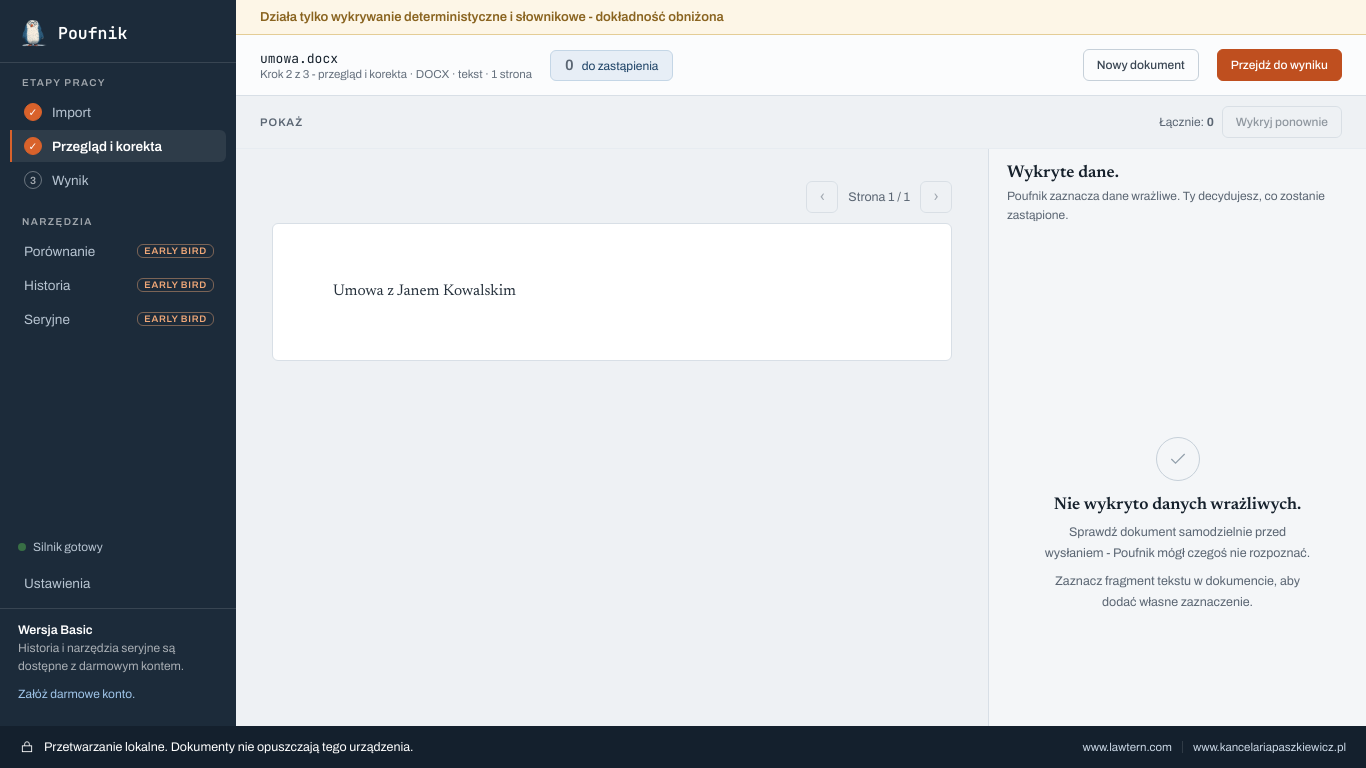
Scenario: App engine health › falls back to the simplified DOCX and says so when the original file is gone
This screenshot has width=1366, height=768.
Click the button "3 Wynik". click: (118, 180)
box: x1=10 y1=164 x2=226 y2=196
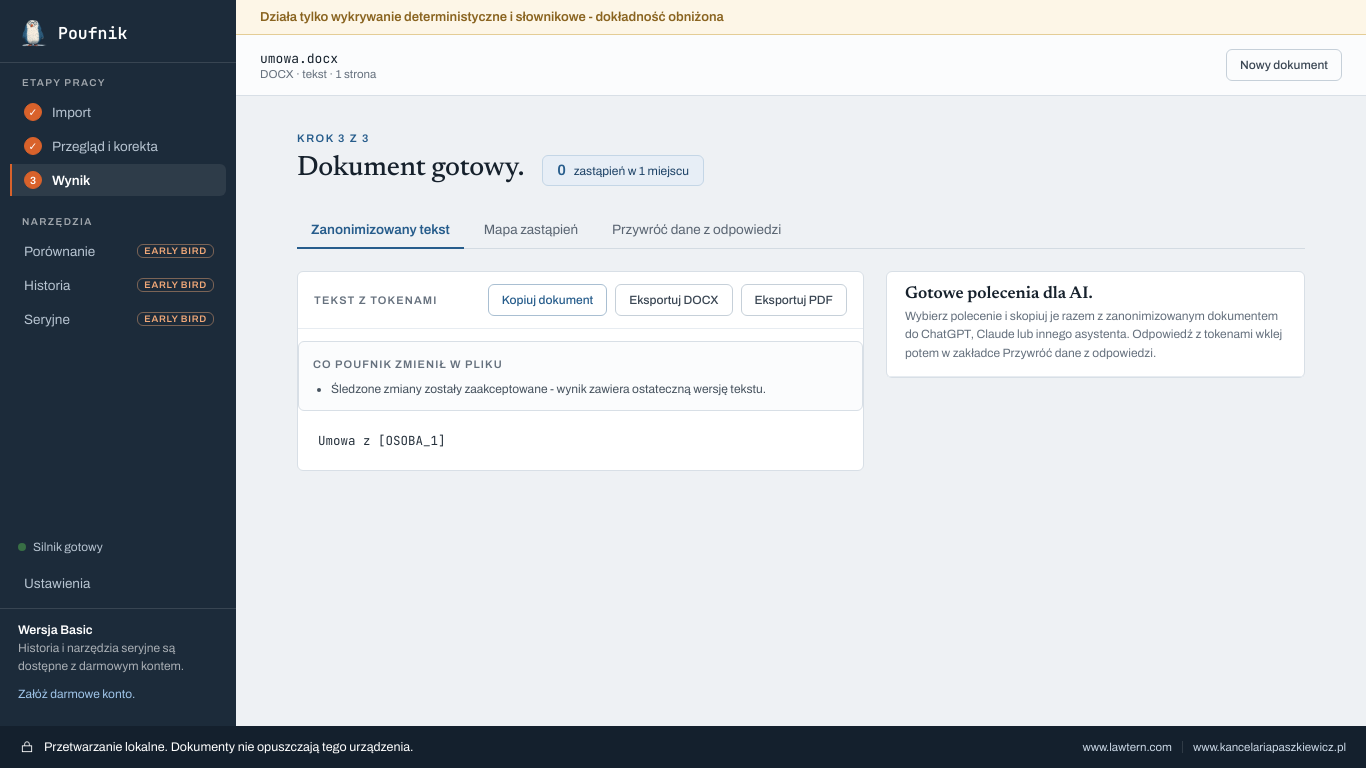
Click the button "Eksportuj DOCX". click: (674, 300)
box: x1=615 y1=284 x2=732 y2=316
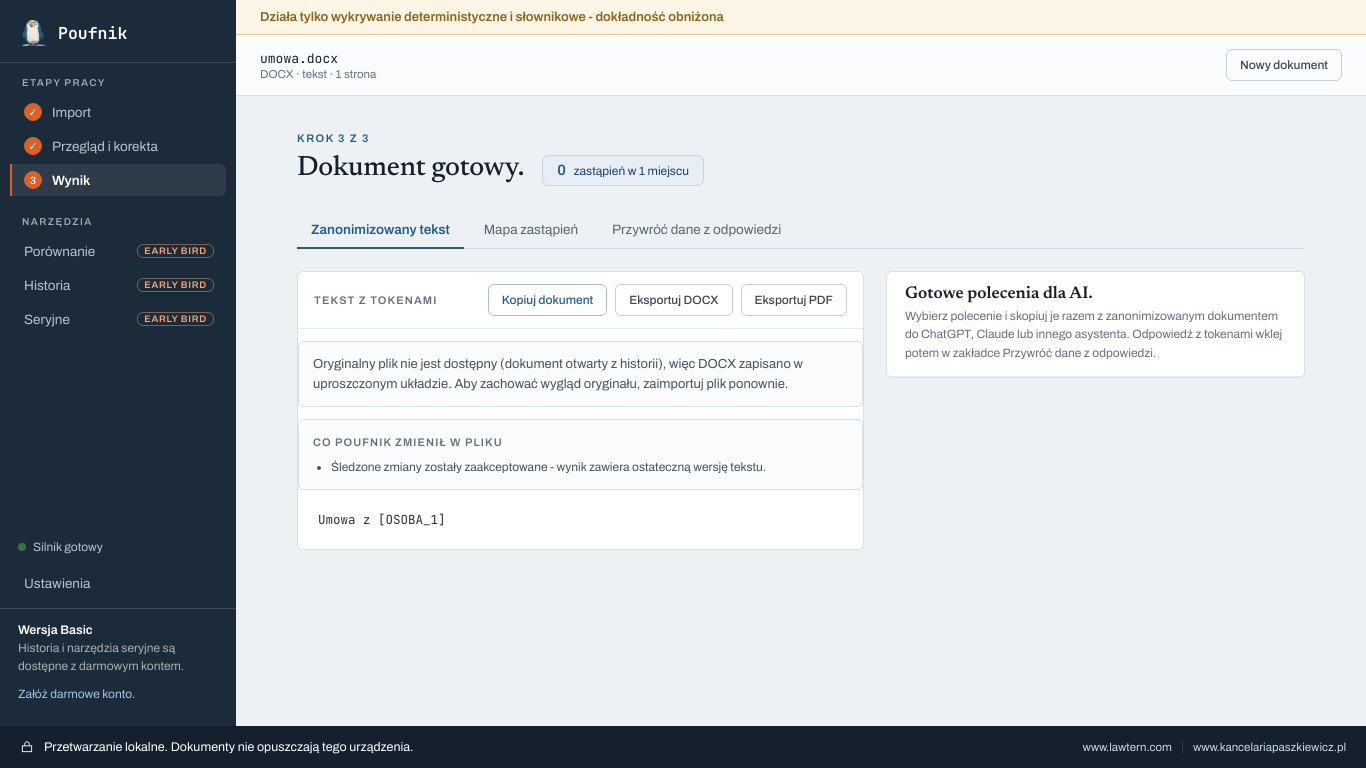
Check: the text "Oryginalny plik nie jest dostępny (dokument otwarty z historii), więc DOCX zapisano w uproszczonym układzie. Aby zachowa" is shown, box x1=313 y1=357 x2=803 y2=391
